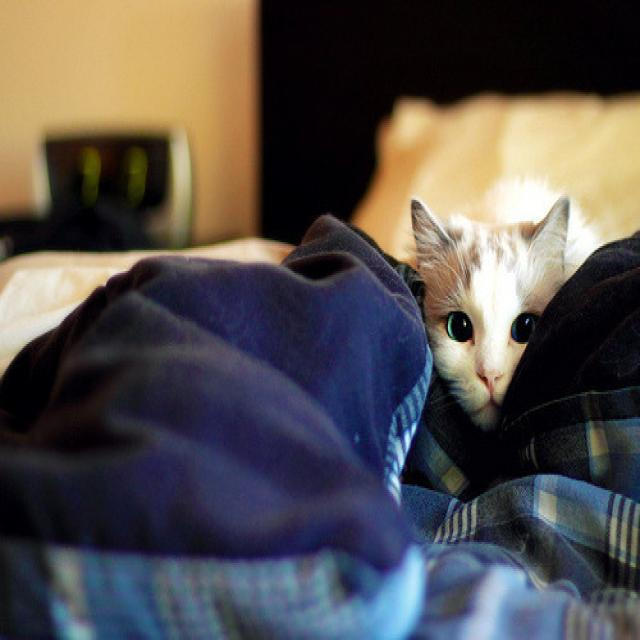cat: (393, 157, 586, 444)
